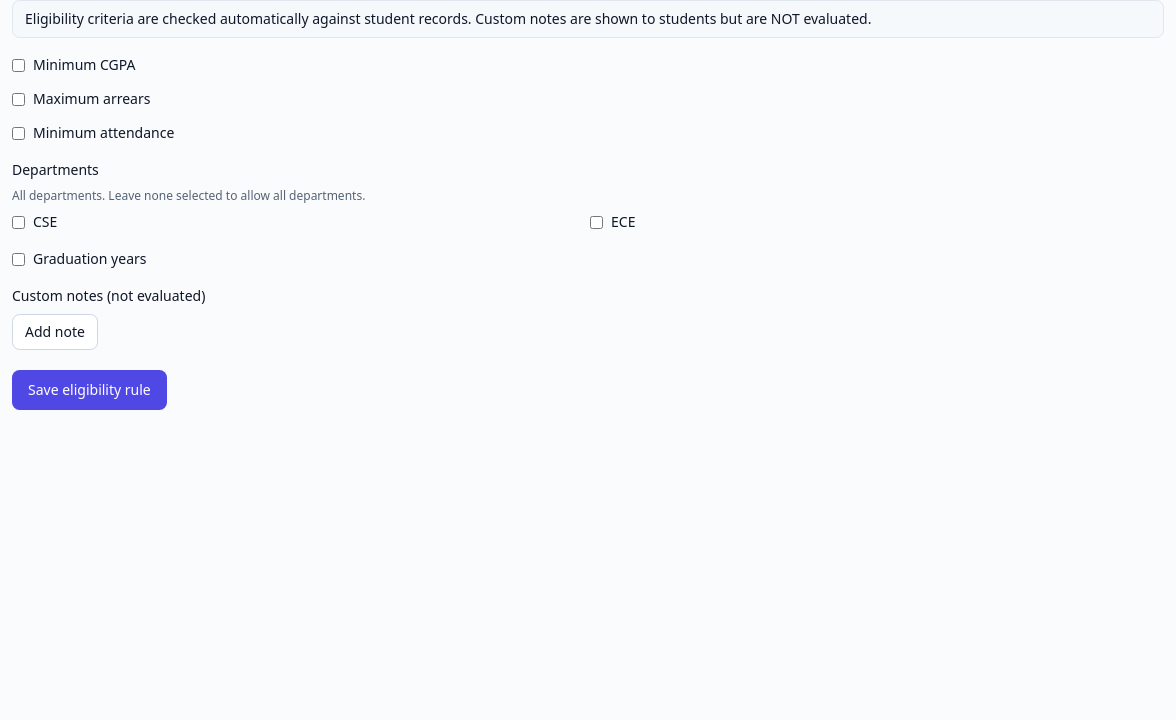
it: EligibilityForm › blocks save when a minimum CGPA has no basis
This screenshot has width=1176, height=720.
Click the checkbox labelled "Minimum CGPA" at (18, 65), box [12, 58, 25, 72]
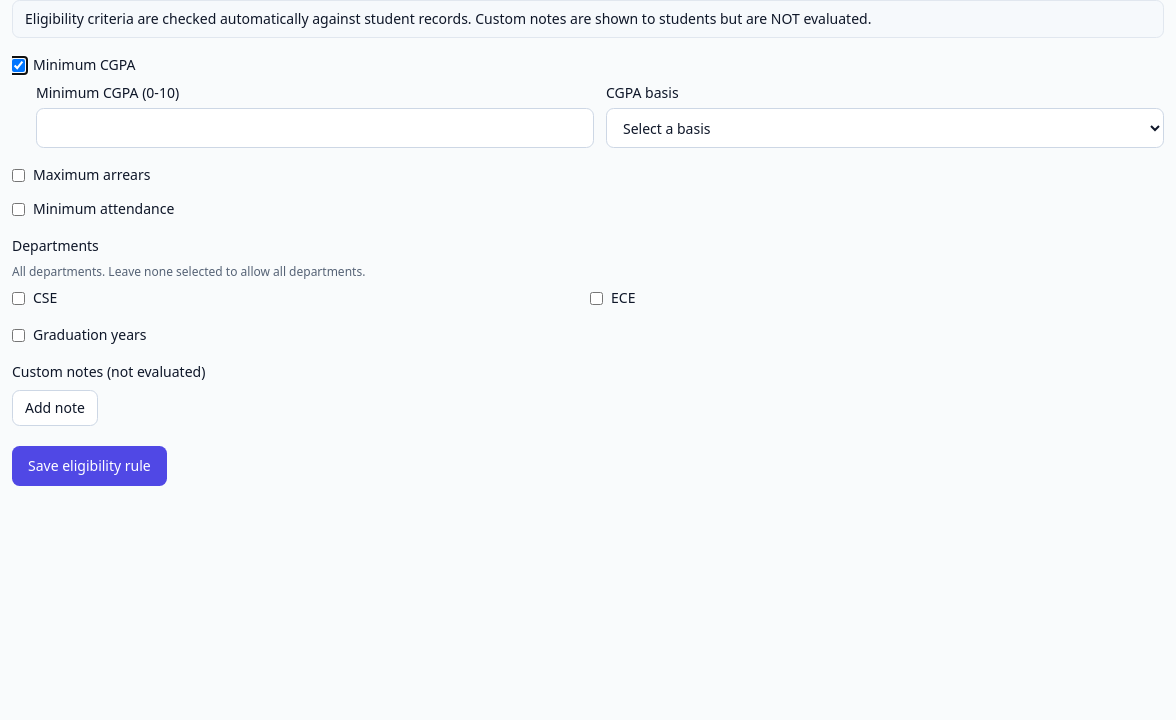
Type "7" into the number field labelled "Minimum CGPA (0-10)" at (315, 128), box [36, 108, 594, 148]
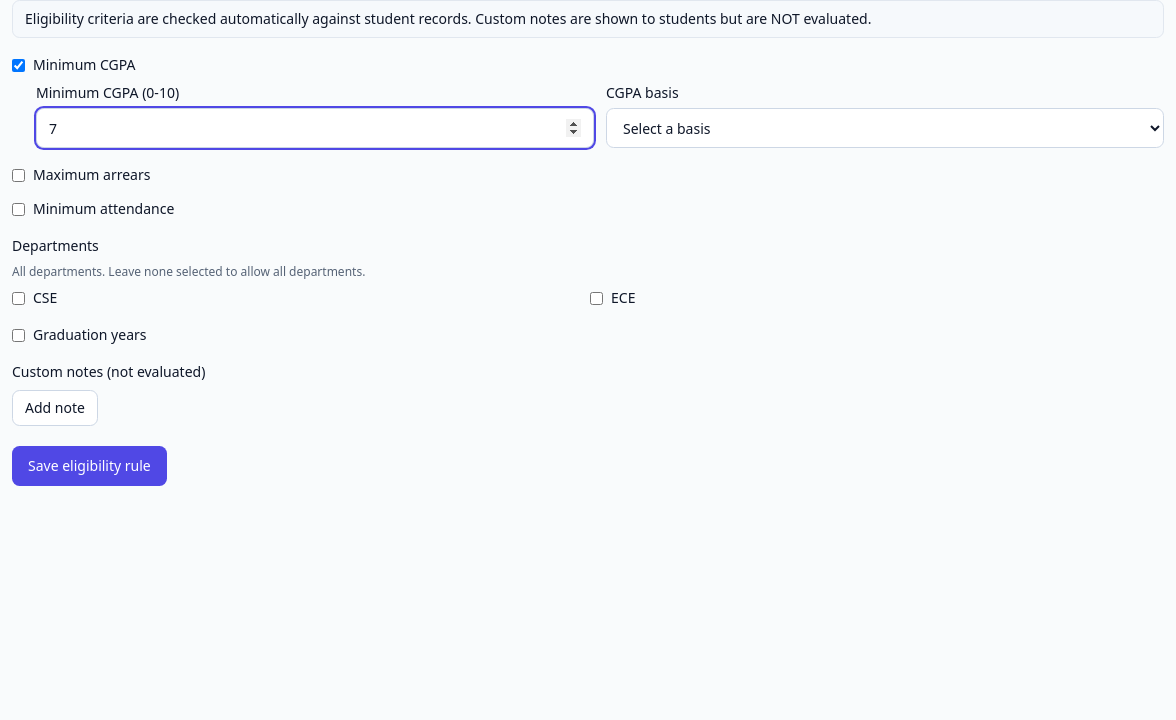
Click the button "Save eligibility rule" at (89, 466), box [12, 446, 167, 486]
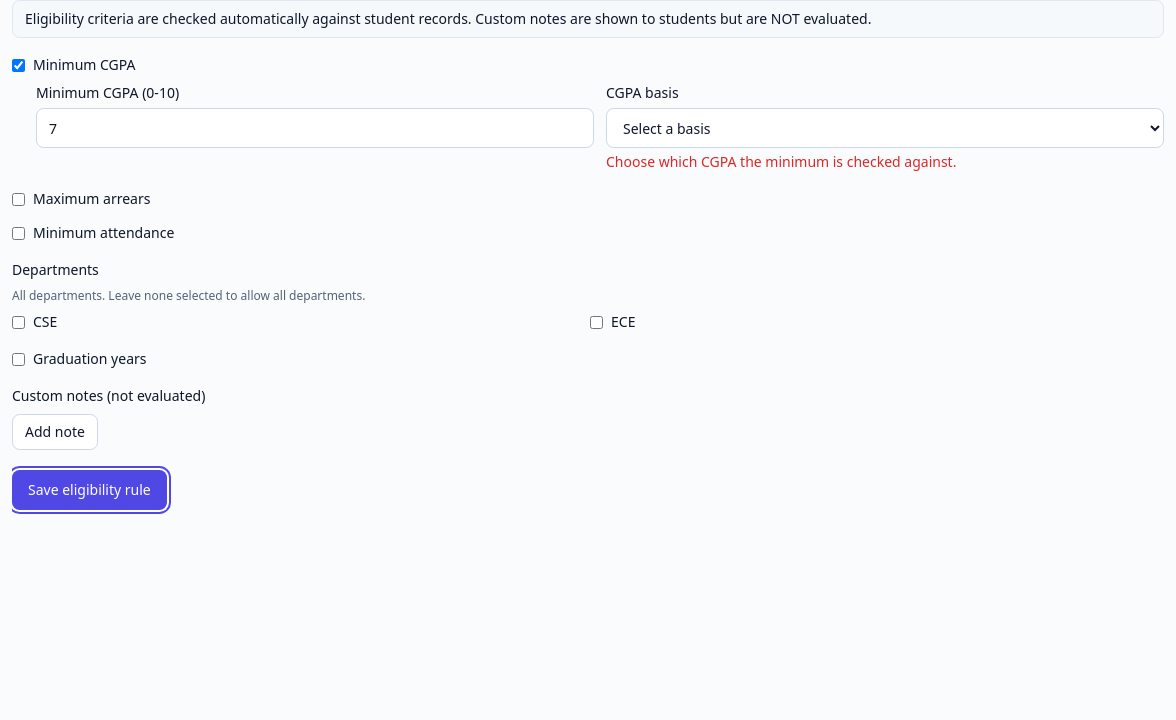
Check: the text "Choose which CGPA the minimum is checked against." is shown, box [606, 152, 956, 171]
